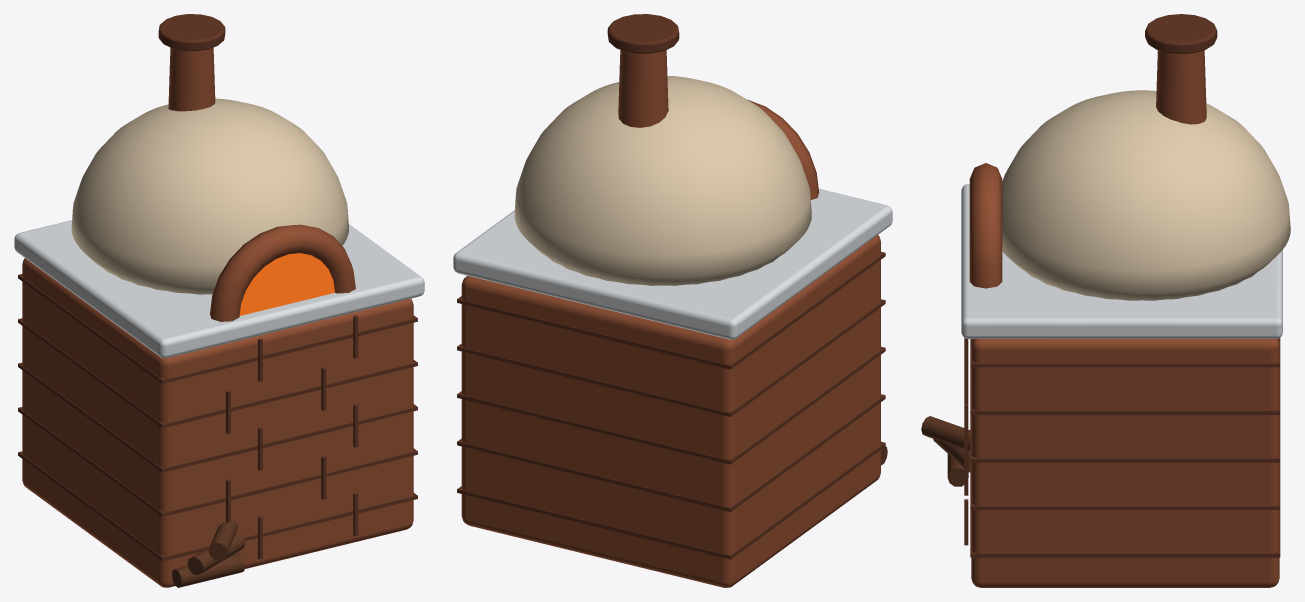
The model's file is station-oven.glb.
3 views of the same model, side by side, from view 1: azimuth 30°, elevation 25°; view 2: azimuth 150°, elevation 25°; view 3: azimuth 270°, elevation 25° (orthographic). The views are drawn at different scales.
Parts seen in each view (by area): view 1: Oven; view 2: Oven; view 3: Oven.
Part boxes in pixels (<box>): Oven: <box>14,14,424,587</box>; Oven: <box>453,14,892,587</box>; Oven: <box>921,14,1290,587</box>.
Bounding box in the file's own units: 1 × 1.67 × 1.13.
